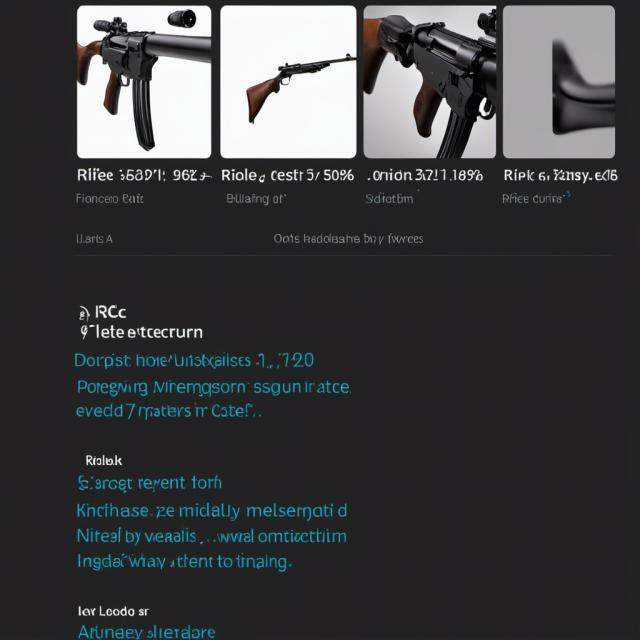gun: (360, 4, 515, 166), (66, 3, 220, 154), (241, 51, 354, 125)
